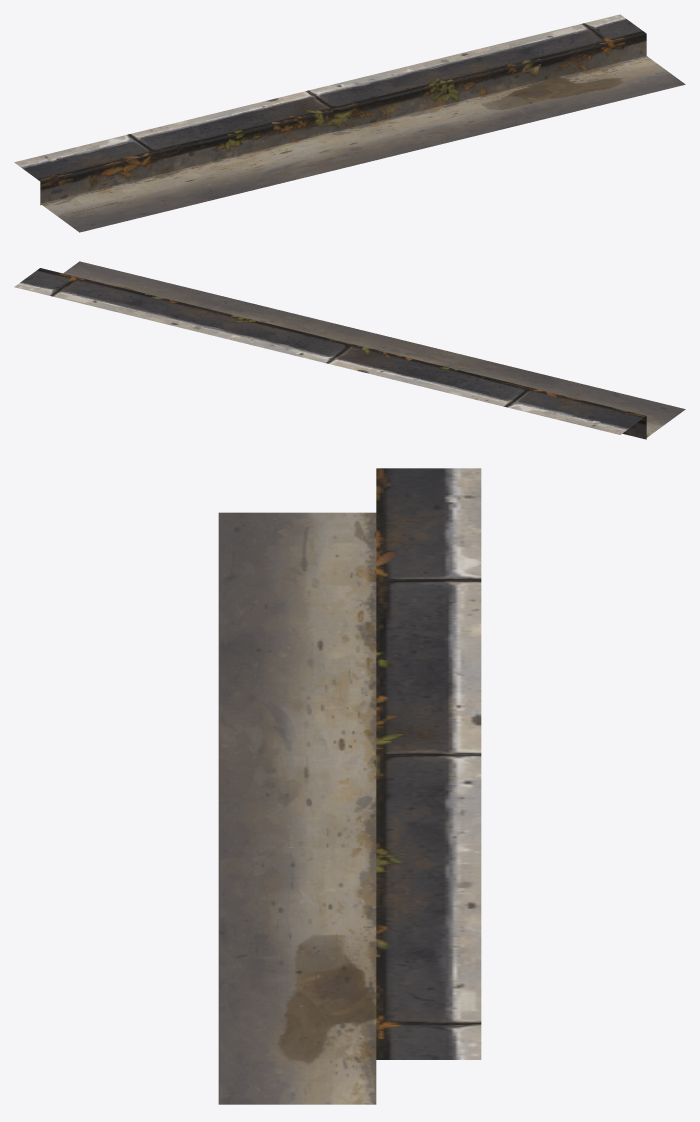
Rendered from ST_Kerb4.fbx.
3 renders of one model, top to bottom at view 1: azimuth 30°, elevation 25°; view 2: azimuth 150°, elevation 25°; view 3: azimuth 270°, elevation 25°, orthographic. The views are drawn at different scales.
Visible parts, largest first — view 1: ST_Kerb4; view 2: ST_Kerb4; view 3: ST_Kerb4.
Part boxes in pixels (bbox=[...]): ST_Kerb4: bbox=[14, 14, 685, 232]; ST_Kerb4: bbox=[14, 261, 685, 439]; ST_Kerb4: bbox=[218, 468, 481, 1104].
Bounding box in the file's own units: 4 × 0.75 × 0.15.
1 material, 1 textured.
